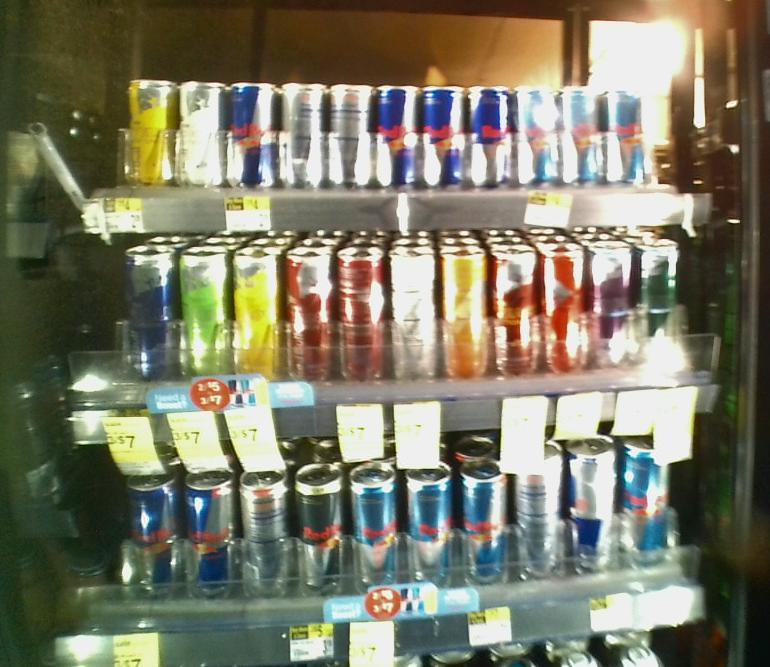bottle: (124, 463, 180, 621), (516, 441, 569, 602), (348, 456, 402, 614), (121, 239, 177, 385), (627, 437, 677, 597), (238, 472, 293, 617), (572, 437, 622, 593), (185, 467, 235, 622), (180, 246, 235, 386), (283, 244, 335, 387), (406, 462, 456, 610), (295, 464, 344, 611), (387, 242, 438, 383), (640, 236, 686, 386), (490, 242, 541, 377), (441, 239, 488, 382), (461, 458, 509, 597), (339, 243, 384, 388), (591, 238, 636, 378), (543, 243, 588, 380), (373, 67, 421, 194), (125, 69, 175, 189), (238, 247, 281, 380), (229, 75, 277, 191), (179, 71, 224, 190), (517, 76, 560, 196), (282, 78, 326, 192), (332, 73, 371, 199), (471, 76, 513, 192), (427, 73, 465, 189), (564, 77, 603, 187), (607, 79, 644, 185)
